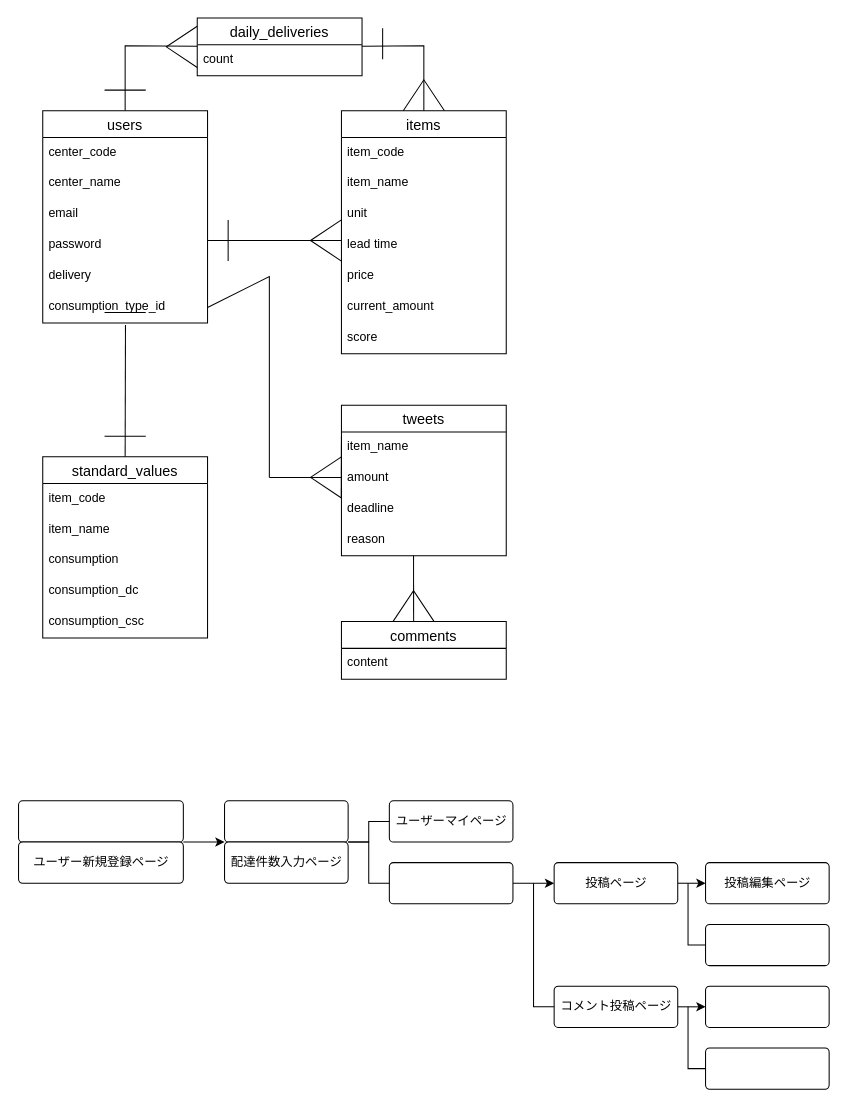
Some shapes in this 847 by 1107 pixel diagram are drawn without their labels. The shapes that lost their labels are listed below. From the top down, each one's centre as x and y in pixels, then its label:
At pixel 100 821: "ユーザーログインページ".
At pixel 286 821: "備品一覧ページ".
At pixel 450 883: "投稿一覧ページ".
At pixel 767 944: "投稿削除ページ".
At pixel 767 1006: "コメント編集ページ".
At pixel 767 1068: "コメント削除ページ".
